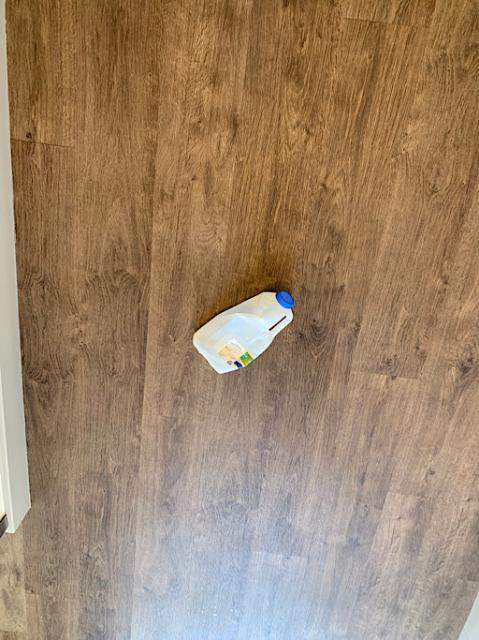plastic: (192, 290, 292, 372)
